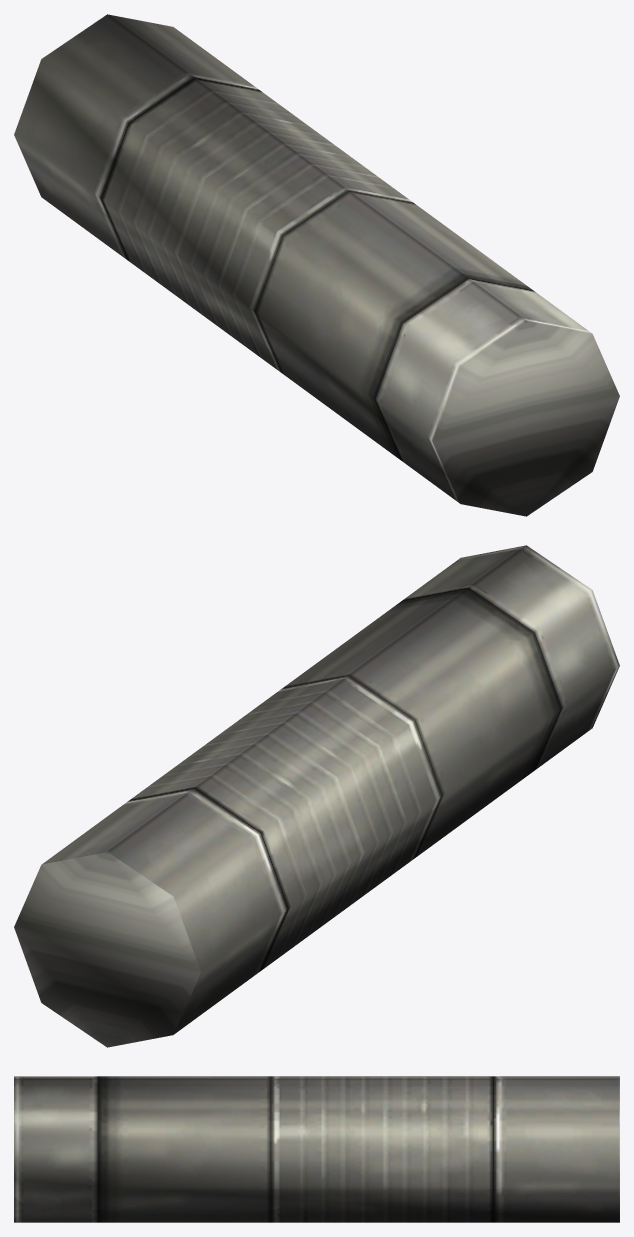
File: pipe1.glb
3 views of the same model, one above another, from view 1: azimuth 30°, elevation 25°; view 2: azimuth 150°, elevation 25°; view 3: azimuth 270°, elevation 25° (orthographic). The views are drawn at different scales.
Parts seen in each view (by area): view 1: Cylinder01; view 2: Cylinder01; view 3: Cylinder01.
Boxes of the visible parts, <box> form: Cylinder01: <box>14,14,619,516</box>; Cylinder01: <box>14,545,619,1047</box>; Cylinder01: <box>14,1076,619,1222</box>.
Size of the model in its own units: 16.4 by 16.4 by 63.8.
1 material, 1 textured.
